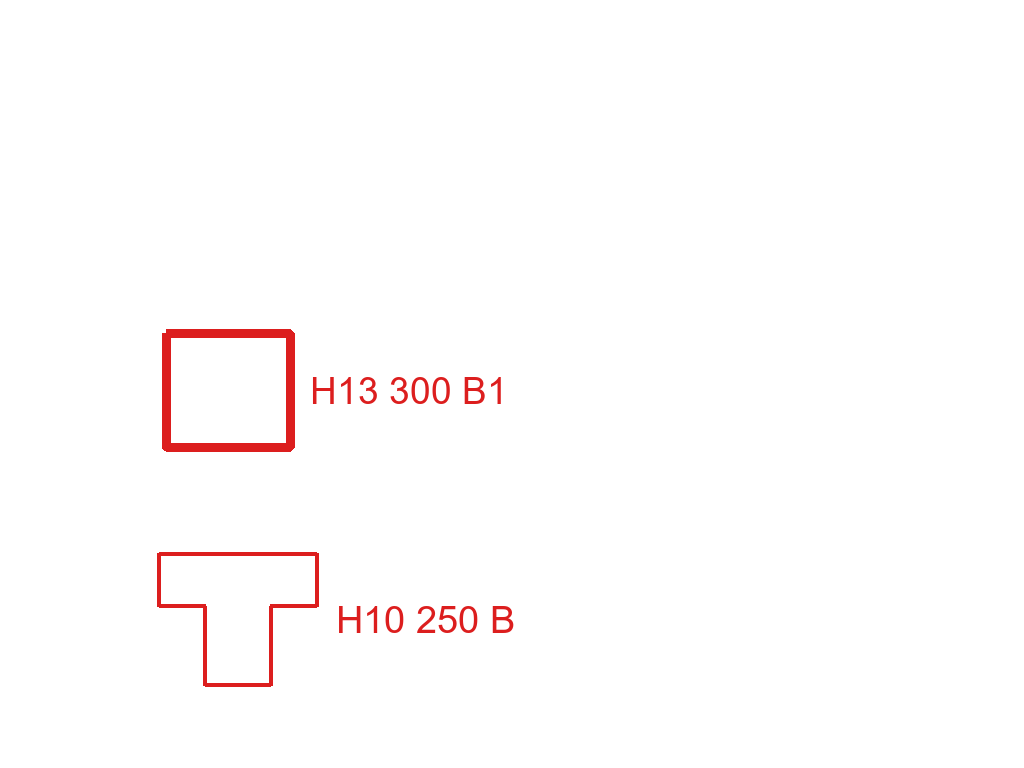shape: (156, 550, 320, 690), (160, 327, 297, 454)
text: (308, 375, 510, 406), (334, 604, 517, 635)
